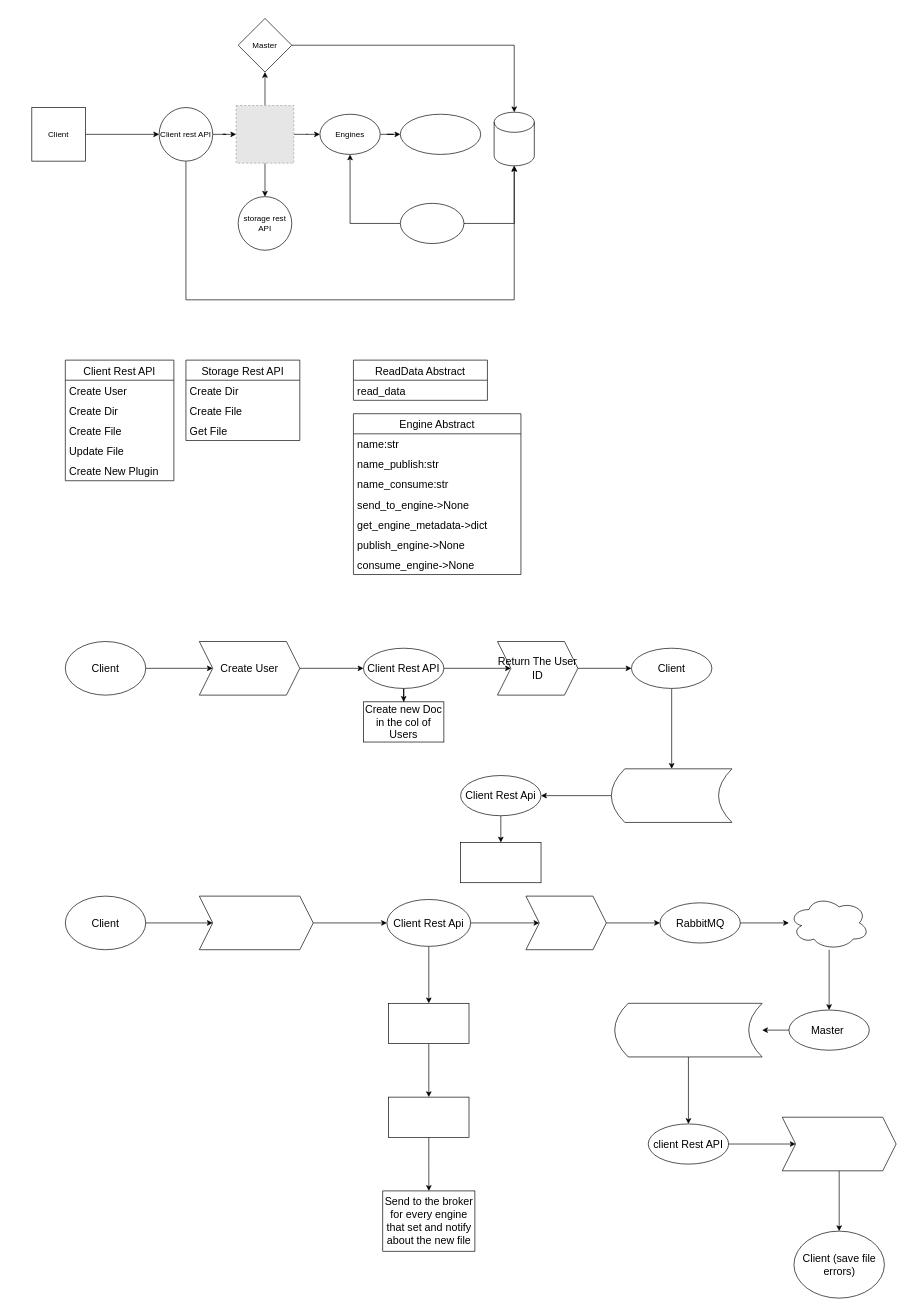
Some shapes in this 908 by 1310 pixel diagram are drawn without their labels. Grey dashed boxes stand in for pictures. The shapes that lost their labels are listed below. From the top down, each one's centre as x and y in pixels, then its label:
At point (440, 134): "sql scanner".
At point (513, 139): "MongoDB".
At point (432, 223): "PasswordEngine".
At point (671, 795): "Create new dir".
At point (500, 862): "Update the Doc in the users col".
At point (256, 922): "Create new file".
At point (565, 922): "Send to the Broker".
At point (428, 1023): "Call Request to Storage API and create new file".
At point (688, 1030): "Send in web socket the engines data".
At point (428, 1116): "Load plugins of engines".
At point (839, 1144): "Notify the Client".
